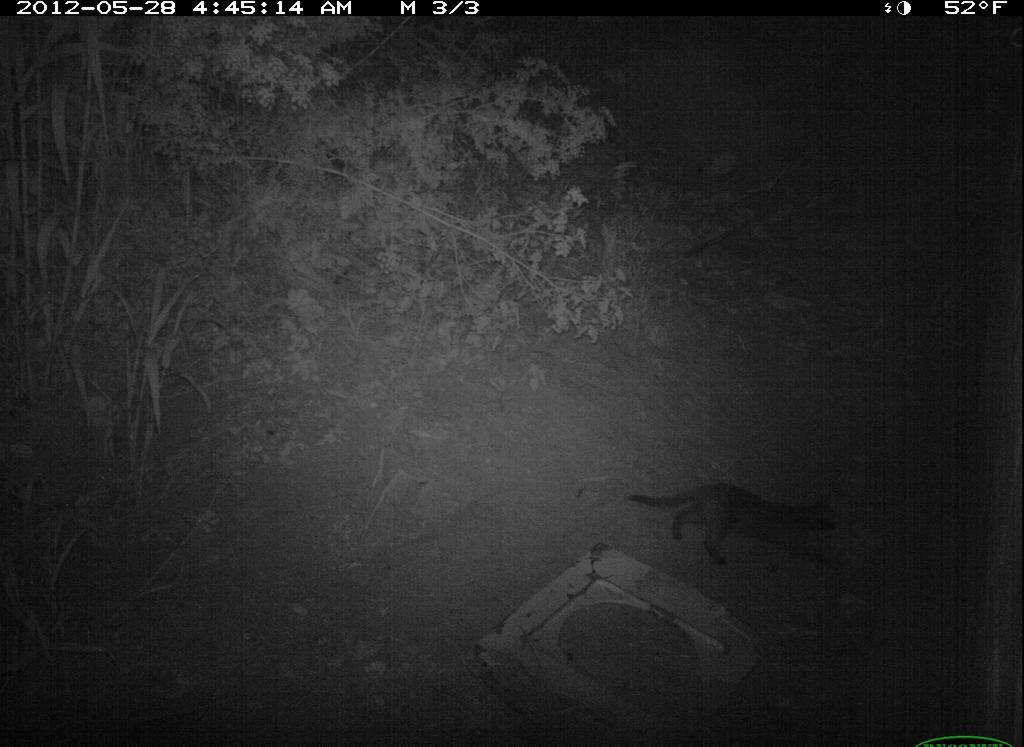cat: (619, 472, 838, 588)
